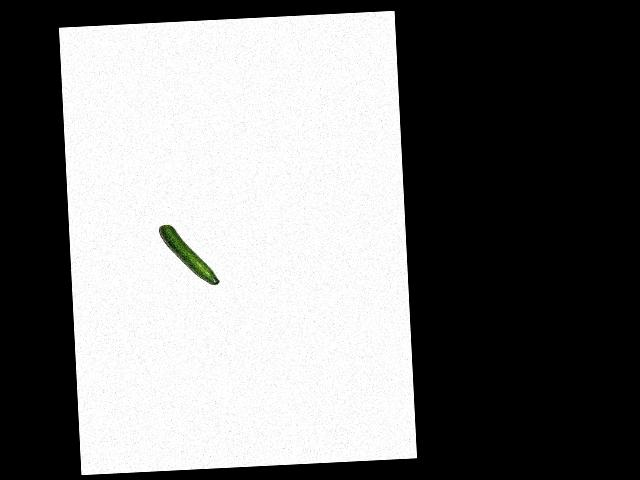cucumber: (158, 221, 219, 287)
